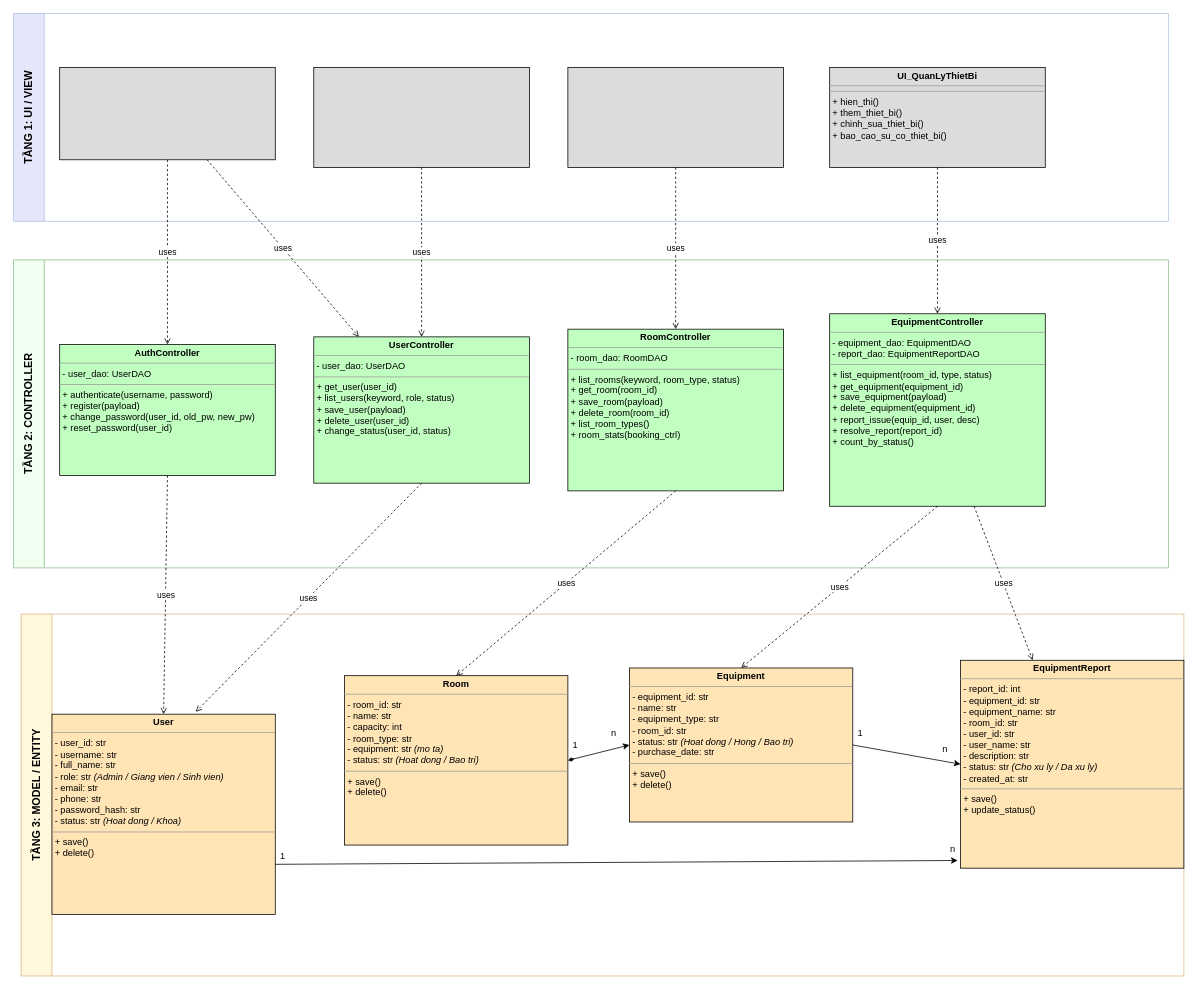
This 1197x989 diagram has some shape labels left out. The centre of each missing label's shape, as x and y in pixels:
"UI_DangNhap + hien_thi() + dang_nhap() + dang_xuat()" goes at (x=167, y=113).
"UI_QuanLyNguoiDung + hien_thi() + them_moi() + chinh_sua() + xoa()" goes at (x=421, y=117).
"UI_QuanLyPhong + hien_thi() + them_phong() + chinh_sua_phong() + xoa_phong()" goes at (x=675, y=117).
